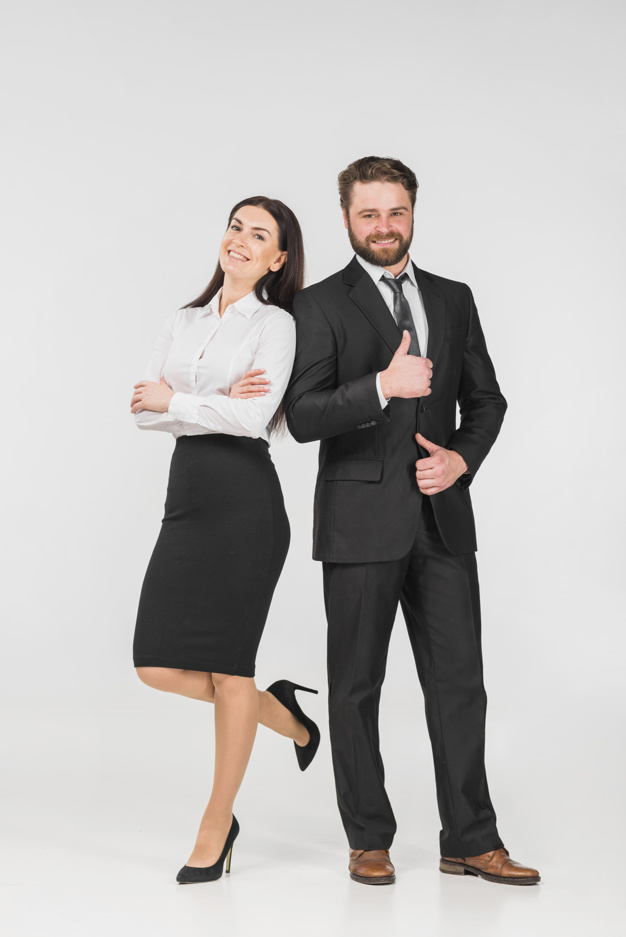thumbsup: (398, 329, 434, 398), (414, 433, 449, 496)
